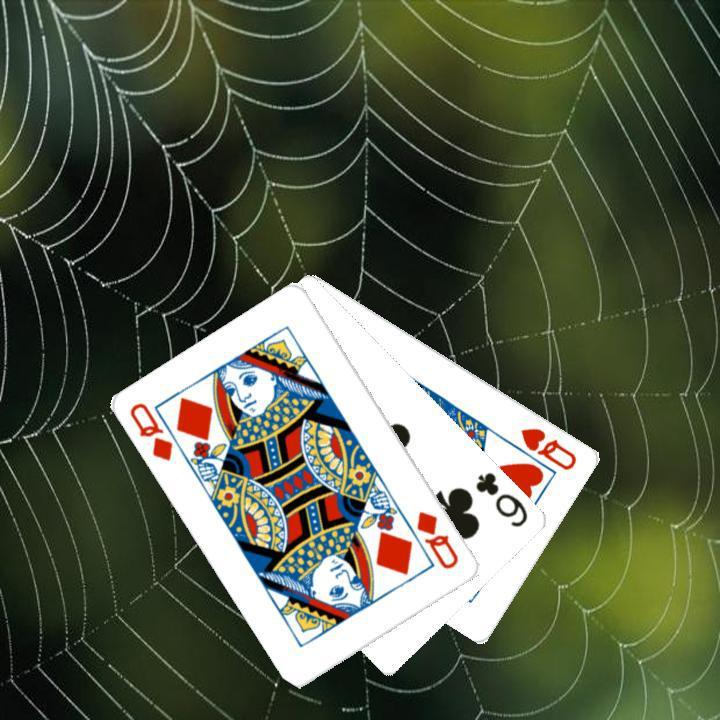6: (471, 467, 531, 530)
Q: (412, 506, 462, 572), (126, 398, 176, 463), (517, 423, 580, 473)
